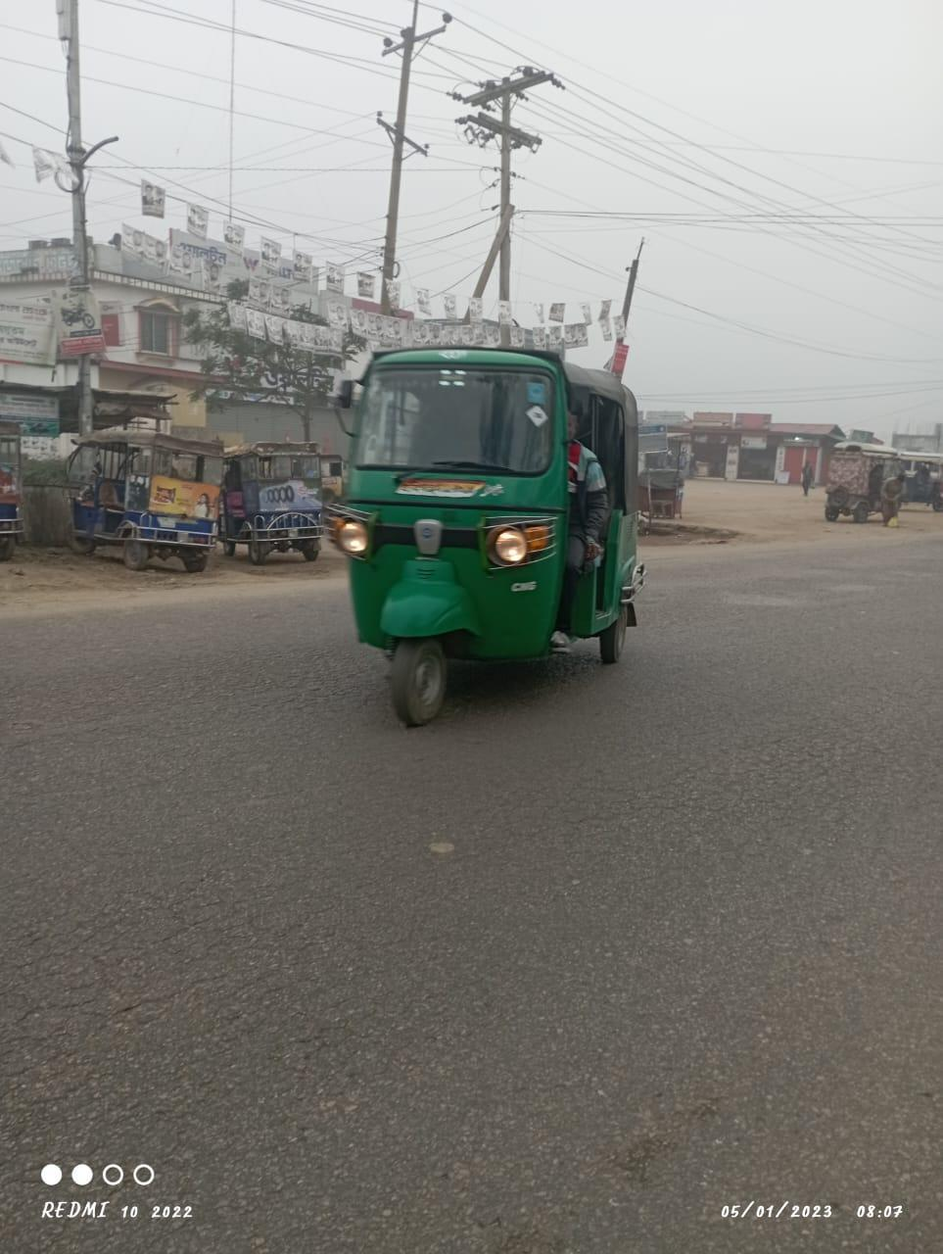Car: (56, 423, 231, 573), (217, 431, 331, 571), (823, 432, 922, 529)
